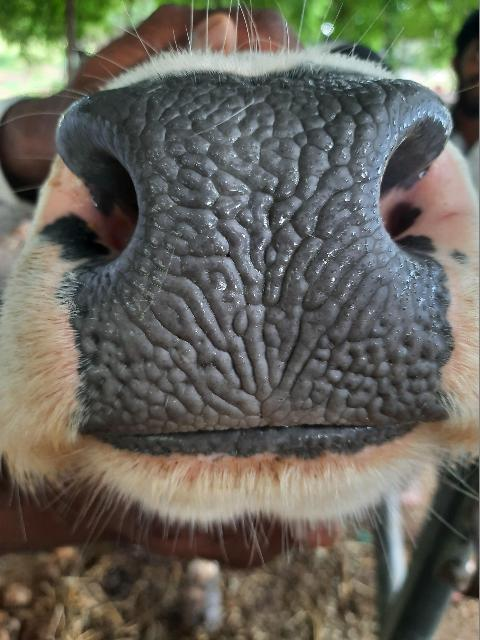Muzzle: (94, 90, 436, 440)
